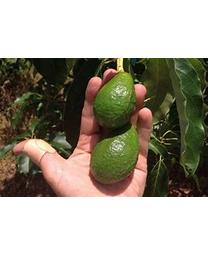avocado: (89, 129, 141, 183), (90, 71, 139, 127)
